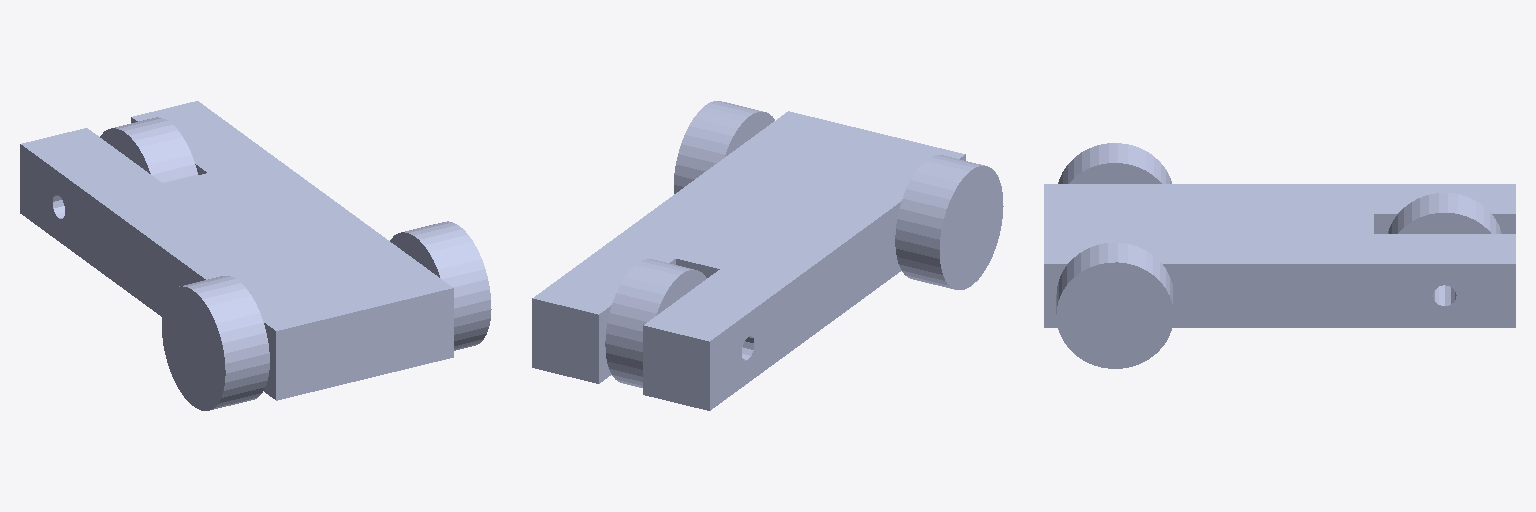
URDF robot description (car):
<?xml version="1.0" encoding="utf-8"?>
<!-- This URDF was automatically created by SolidWorks to URDF Exporter! Originally created by [author] ([email redacted]) 
     Commit Version: 1.5.1-0-g916b5db  Build Version: 1.5.7152.31018
     For more information, please see http://wiki.ros.org/sw_urdf_exporter -->
<robot
  name="car">
  <link
    name="base_link">
    <inertial>
      <origin
        xyz="0.06882 0.017196 -0.0068298"
        rpy="0 0 0" />
      <mass
        value="0.05" />
      <inertia
        ixx="4.3083E-05"
        ixy="1.5102E-22"
        ixz="7.0549E-22"
        iyy="4.98E-05"
        iyz="-3.0611E-22"
        izz="8.7932E-06" />
    </inertial>
    <visual>
      <origin
        xyz="0 0 0"
        rpy="0 0 0" />
      <geometry>
        <mesh
          filename="package://car/meshes/base_link.STL" />
      </geometry>
      <material
        name="">
        <color
          rgba="0.79216 0.81961 0.93333 1" />
      </material>
    </visual>
    <collision>
      <origin
        xyz="0 0 0"
        rpy="0 0 0" />
      <geometry>
        <mesh
          filename="package://car/meshes/base_link.STL" />
      </geometry>
    </collision>
  </link>
  <link
    name="front_link">
    <inertial>
      <origin
        xyz="6.9389E-18 -3.4694E-18 0.005"
        rpy="0 0 0" />
      <mass
        value="0.005" />
      <inertia
        ixx="2.3265E-07"
        ixy="2.647E-23"
        ixz="3.9057E-23"
        iyy="2.3265E-07"
        iyz="-3.7293E-23"
        izz="3.835E-07" />
    </inertial>
    <visual>
      <origin
        xyz="0 0 0"
        rpy="0 0 0" />
      <geometry>
        <mesh
          filename="package://car/meshes/front_link.STL" />
      </geometry>
      <material
        name="">
        <color
          rgba="0.79216 0.81961 0.93333 1" />
      </material>
    </visual>
    <collision>
      <origin
        xyz="0 0 0"
        rpy="0 0 0" />
      <geometry>
        <mesh
          filename="package://car/meshes/front_link.STL" />
      </geometry>
    </collision>
  </link>
  <joint
    name="front"
    type="continuous">
    <origin
      xyz="0.06382 0.044613 0.017196"
      rpy="1.5708 -0.68485 1.5708" />
    <parent
      link="base_link" />
    <child
      link="front_link" />
    <axis
      xyz="0 0 1" />
  </joint>
  <link
    name="left_link">
    <inertial>
      <origin
        xyz="-6.9389E-18 -3.4694E-18 0.005"
        rpy="0 0 0" />
      <mass
        value="0.005" />
      <inertia
        ixx="2.3265E-07"
        ixy="6.6174E-24"
        ixz="4.2935E-23"
        iyy="2.3265E-07"
        iyz="-3.2172E-23"
        izz="3.835E-07" />
    </inertial>
    <visual>
      <origin
        xyz="0 0 0"
        rpy="0 0 0" />
      <geometry>
        <mesh
          filename="package://car/meshes/left_link.STL" />
      </geometry>
      <material
        name="">
        <color
          rgba="0.79216 0.81961 0.93333 1" />
      </material>
    </visual>
    <collision>
      <origin
        xyz="0 0 0"
        rpy="0 0 0" />
      <geometry>
        <mesh
          filename="package://car/meshes/left_link.STL" />
      </geometry>
    </collision>
  </link>
  <joint
    name="left"
    type="continuous">
    <origin
      xyz="0.03882 -0.025387 0.017196"
      rpy="1.5708 -0.68947 1.5708" />
    <parent
      link="base_link" />
    <child
      link="left_link" />
    <axis
      xyz="0 0 1" />
  </joint>
  <link
    name="right_link">
    <inertial>
      <origin
        xyz="5.2042E-18 3.1225E-17 0.005"
        rpy="0 0 0" />
      <mass
        value="0.005" />
      <inertia
        ixx="2.3265E-07"
        ixy="2.647E-23"
        ixz="2.3385E-22"
        iyy="2.3265E-07"
        iyz="1.6433E-22"
        izz="3.835E-07" />
    </inertial>
    <visual>
      <origin
        xyz="0 0 0"
        rpy="0 0 0" />
      <geometry>
        <mesh
          filename="package://car/meshes/right_link.STL" />
      </geometry>
      <material
        name="">
        <color
          rgba="0.79216 0.81961 0.93333 1" />
      </material>
    </visual>
    <collision>
      <origin
        xyz="0 0 0"
        rpy="0 0 0" />
      <geometry>
        <mesh
          filename="package://car/meshes/right_link.STL" />
      </geometry>
    </collision>
  </link>
  <joint
    name="right"
    type="continuous">
    <origin
      xyz="0.08882 -0.025387 0.017196"
      rpy="1.5708 -1.0266 1.5708" />
    <parent
      link="base_link" />
    <child
      link="right_link" />
    <axis
      xyz="0 0 1" />
  </joint>
</robot>

--- Render facts (derived) ---
Views: 3 orthographic renders of the robot side by side, from view 1: azimuth 30°, elevation 25°; view 2: azimuth 150°, elevation 25°; view 3: azimuth 270°, elevation 25°.
Robot: car — 4 links, 3 joints (3 continuous); root link base_link; default pose: every joint at zero.
Links seen in each view (by area): view 1: base_link, left_link, right_link, front_link; view 2: base_link, left_link, front_link, right_link; view 3: base_link, right_link, front_link, left_link.
Boxes of the visible links, x1=… form: base_link: x1=20, y1=101, x2=453, y2=400; left_link: x1=162, y1=276, x2=269, y2=410; right_link: x1=390, y1=221, x2=491, y2=350; front_link: x1=100, y1=117, x2=197, y2=183; base_link: x1=532, y1=111, x2=965, y2=410; left_link: x1=895, y1=155, x2=1003, y2=289; front_link: x1=605, y1=259, x2=706, y2=387; right_link: x1=674, y1=101, x2=774, y2=193; base_link: x1=1044, y1=184, x2=1515, y2=327; right_link: x1=1056, y1=243, x2=1173, y2=368; front_link: x1=1388, y1=193, x2=1501, y2=233; left_link: x1=1058, y1=143, x2=1171, y2=183.
Bounding box of the posed robot: 0.06 × 0.1 × 0.025 m (x, y, z).
Meshes: 4 distinct files referenced, 4 mesh visuals loaded (4 binary STL).